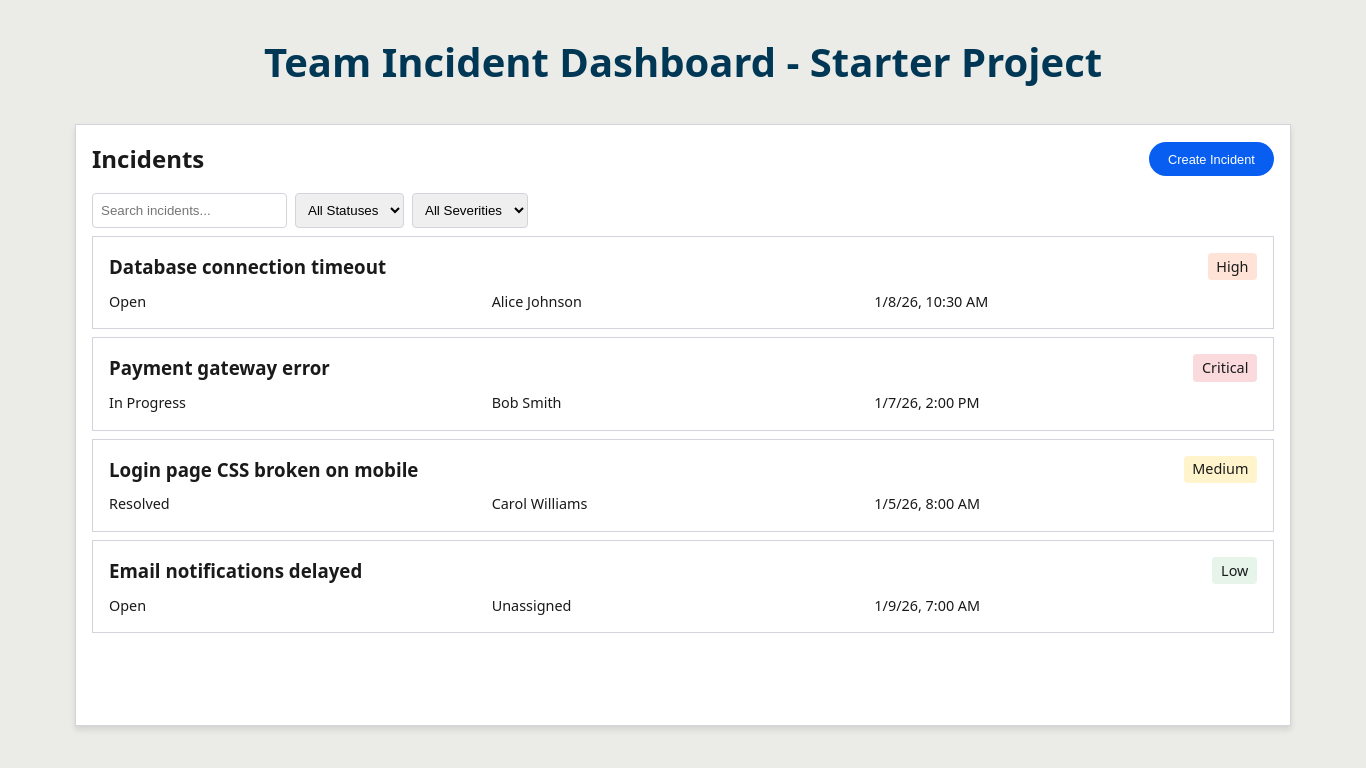
Test: App › shows validation errors when creating incident without required fields
This screenshot has width=1366, height=768.
Click the button with test id "create-incident-button" at x=1211, y=159, box left=1149, top=142, right=1274, bottom=176
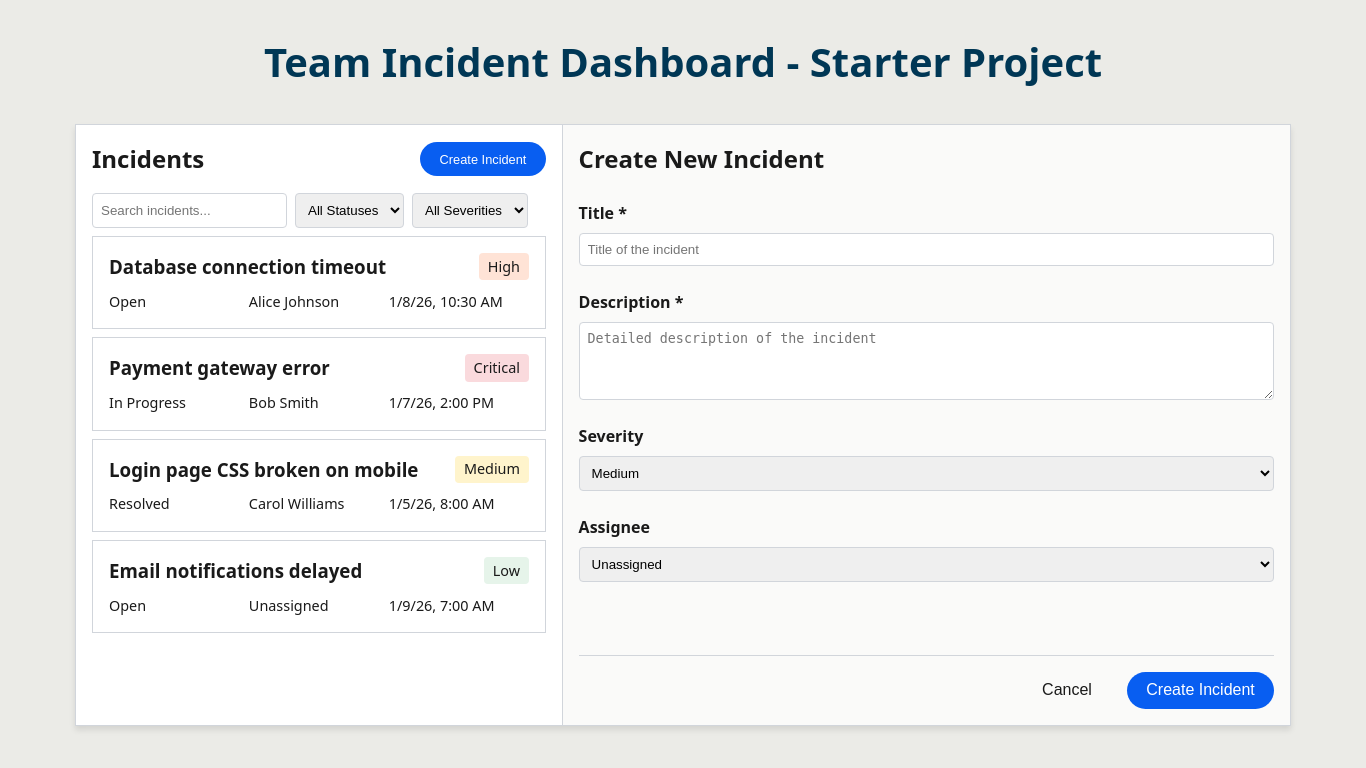
Note: form appears, submit without filling fields
Click the button with test id "submit-incident-button" at x=1201, y=690, box left=1127, top=672, right=1274, bottom=709
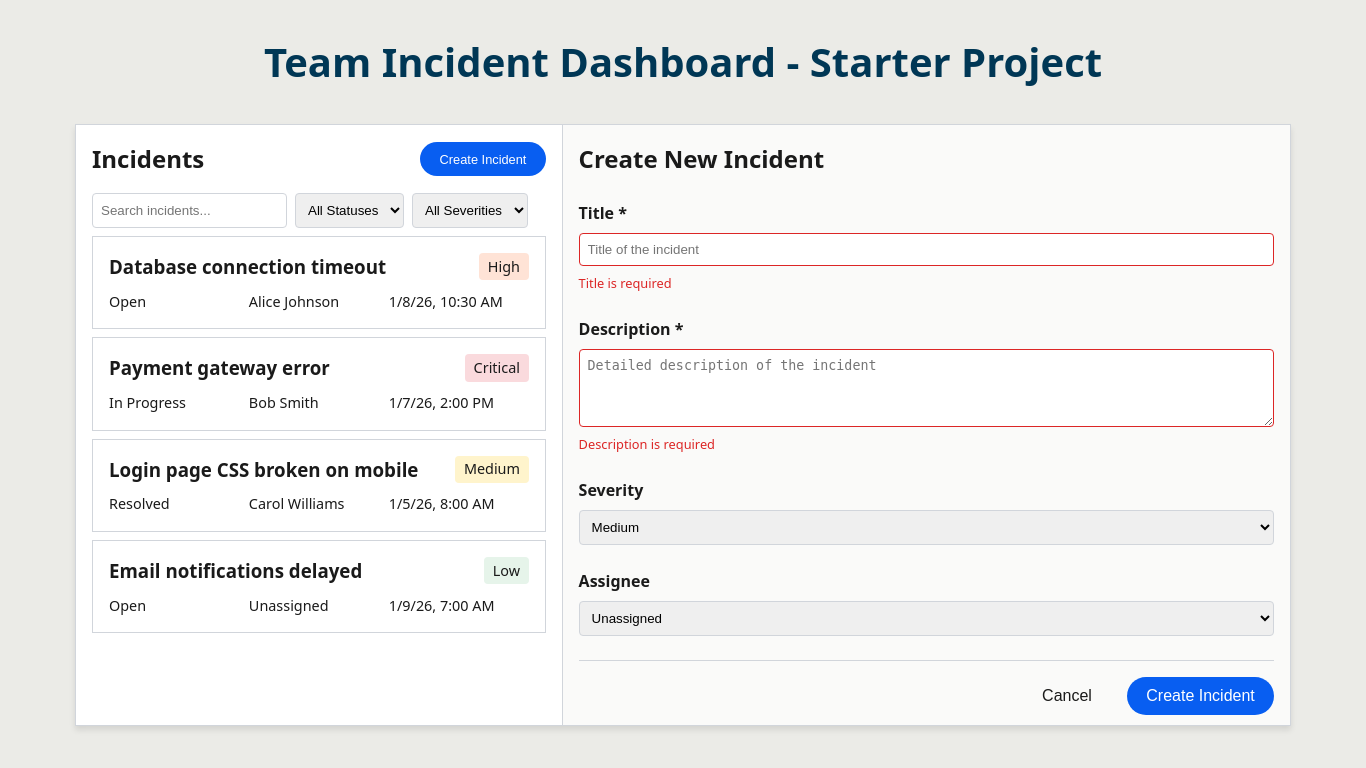
Now the text "Title is required" is shown, box left=579, top=274, right=672, bottom=292
Now the text "Description is required" is shown, box left=579, top=435, right=715, bottom=453
